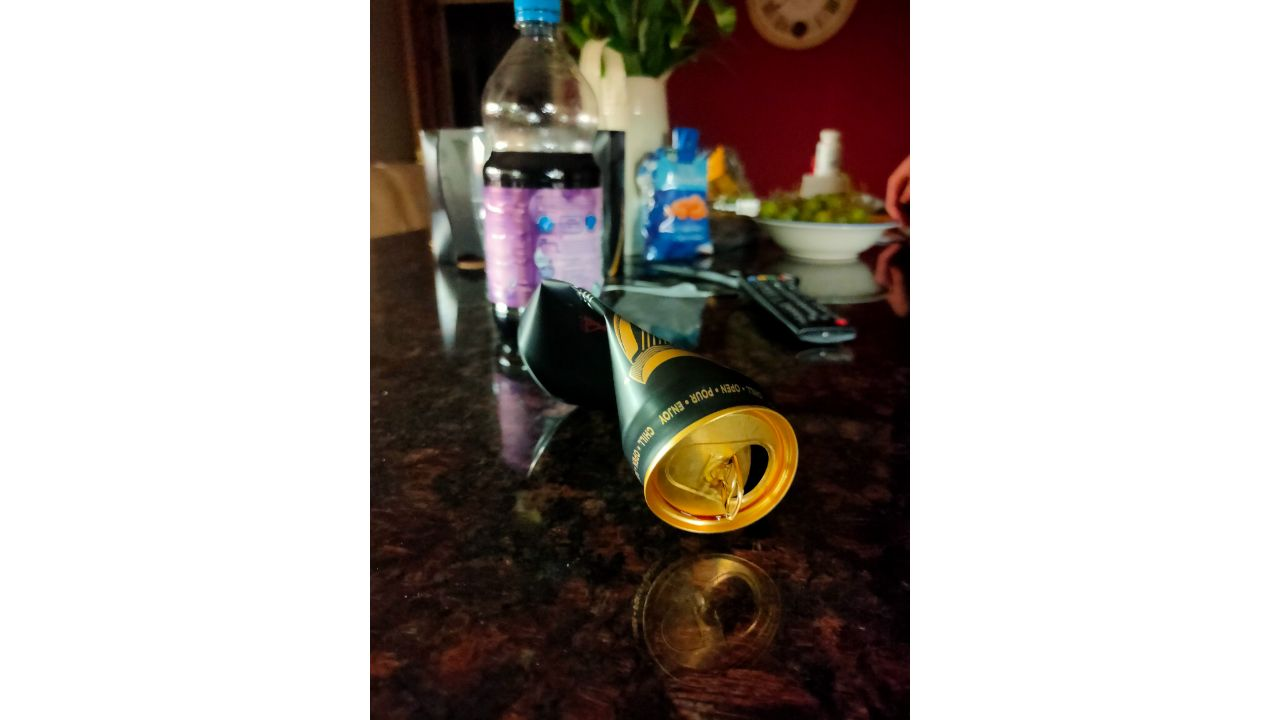Can: (514, 278, 811, 544)
